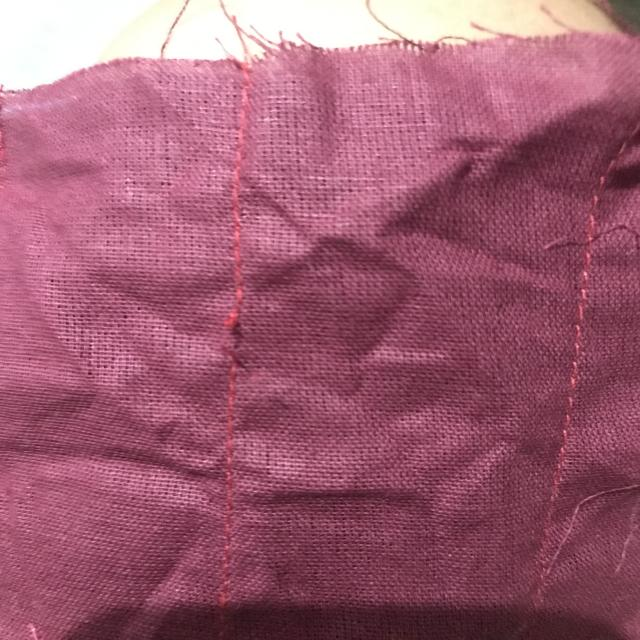broken: (194, 288, 283, 382)
good: (562, 315, 597, 387)
